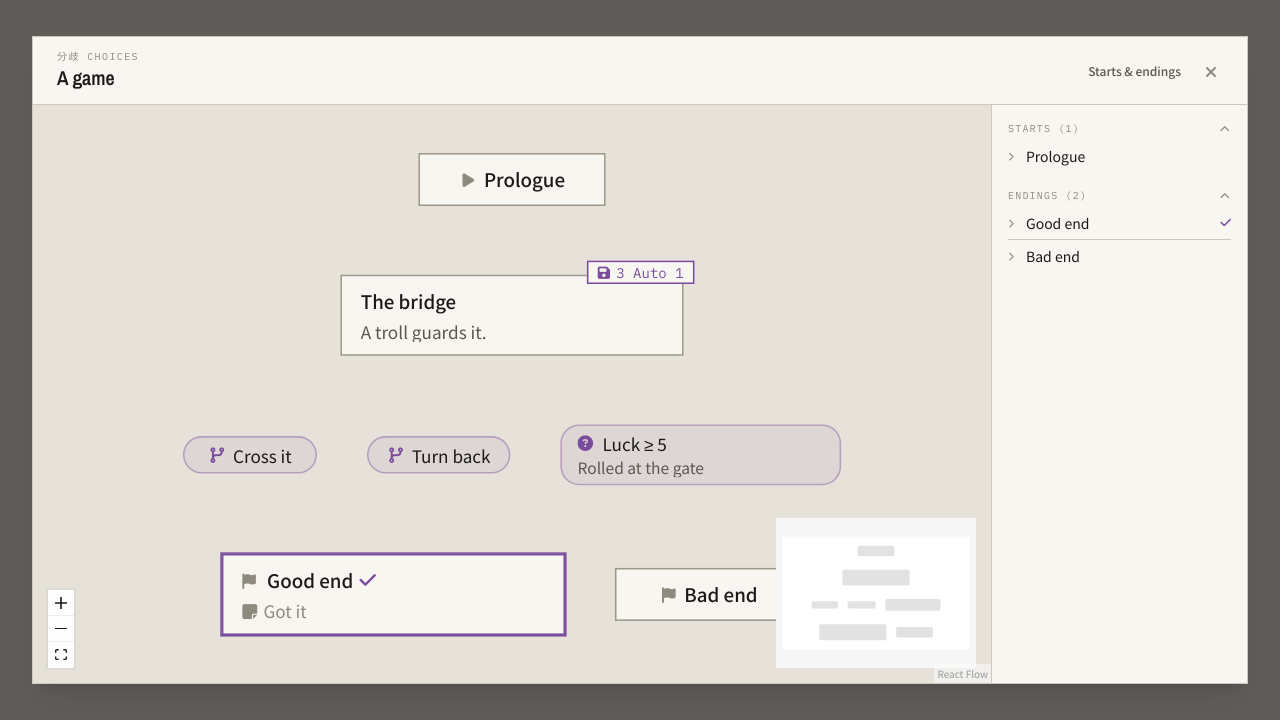
it: ChoiceGraphModal › shows the viewer's existing mark: a done block with its note
Click the element with test id "choice-node-n-good". click: (394, 594)
box: [222,554,565,635]
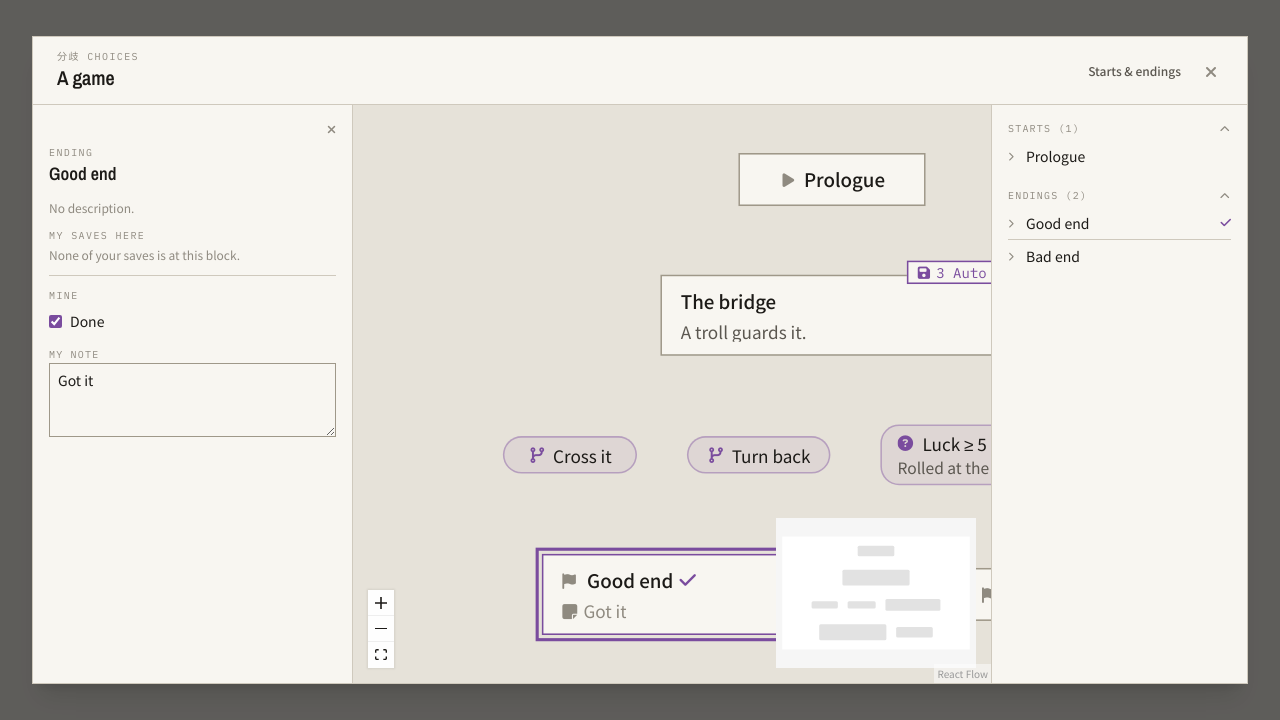
Check: the checkbox labelled "Done" is checked, box [49,314,62,328]
Check: the text box labelled "My note" holds "Got it", box [49,363,336,437]
